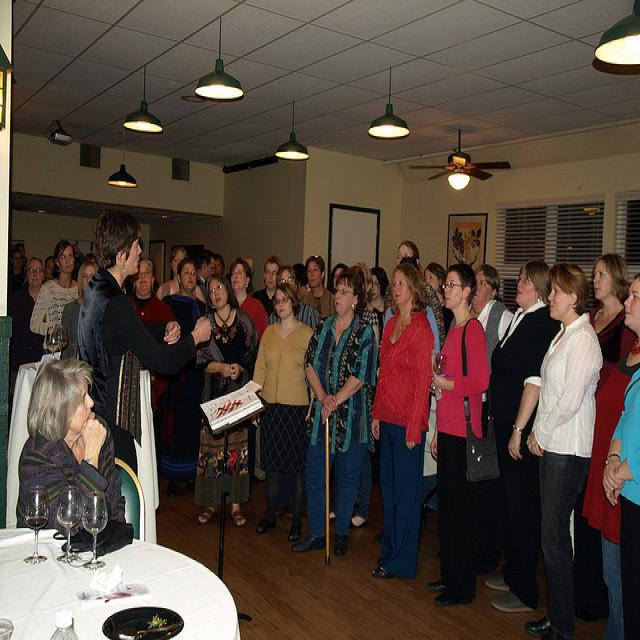chair: (117, 457, 146, 541)
dining table: (0, 527, 243, 640)
